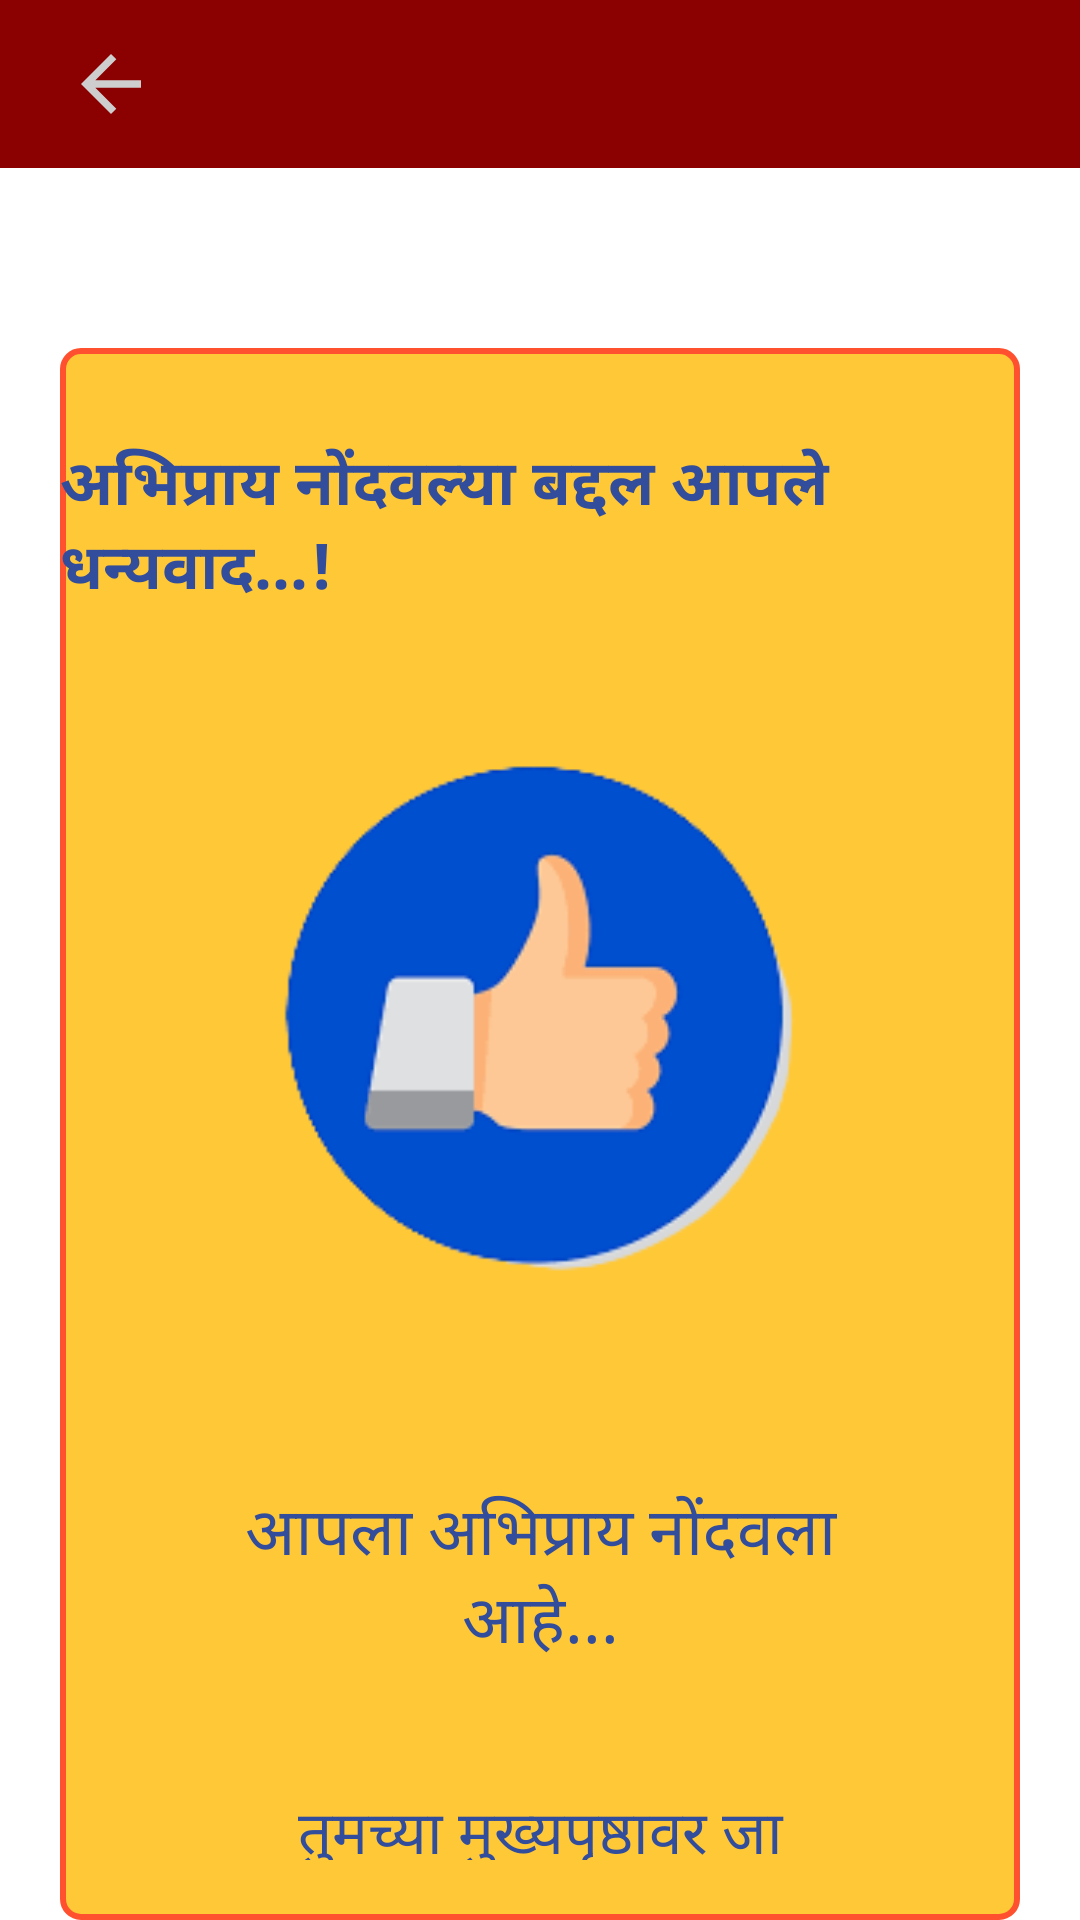

Icons on this 1080*1920 Android screen, each with its box as BBox(x1, y1, x2, y2):
arrow back: BBox(81, 54, 141, 114)
